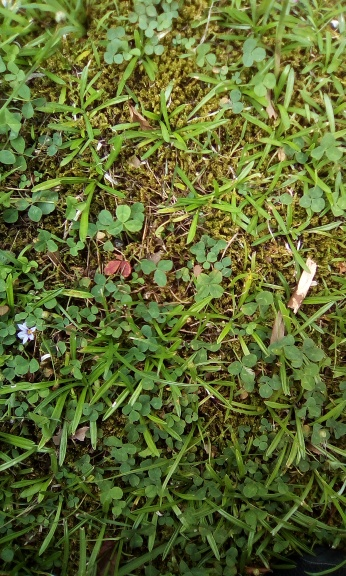4leaf: (195, 270, 223, 299)
